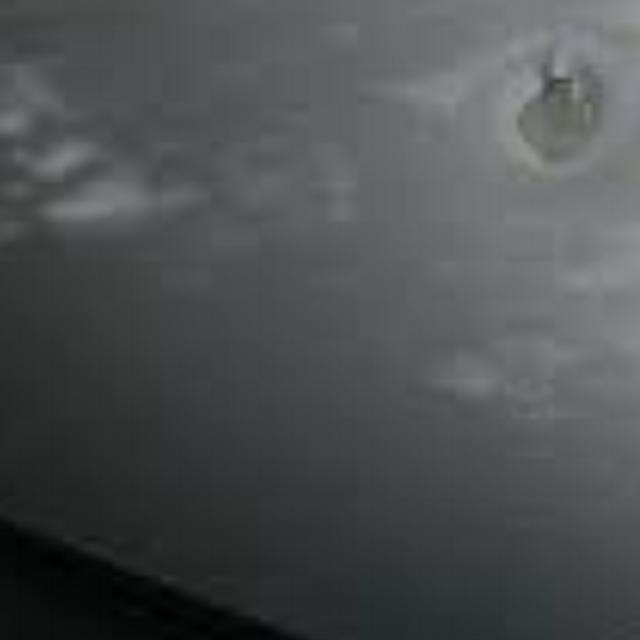dents: (461, 21, 623, 202)
